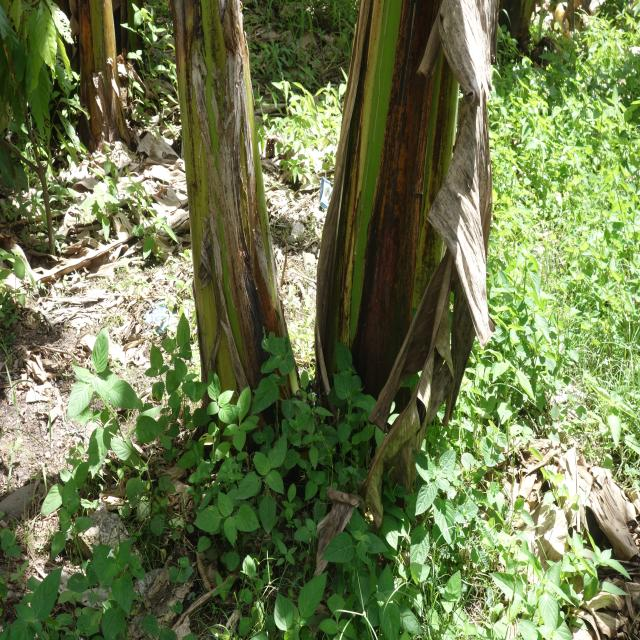Banana-plant: (307, 0, 492, 482), (168, 0, 300, 438), (67, 0, 129, 155)
